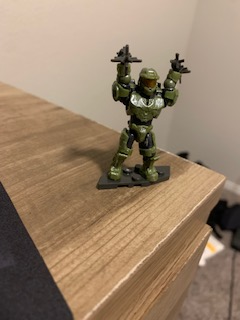chief: (107, 56, 183, 183)
spartan: (105, 54, 181, 181)
up: (109, 57, 182, 123)
